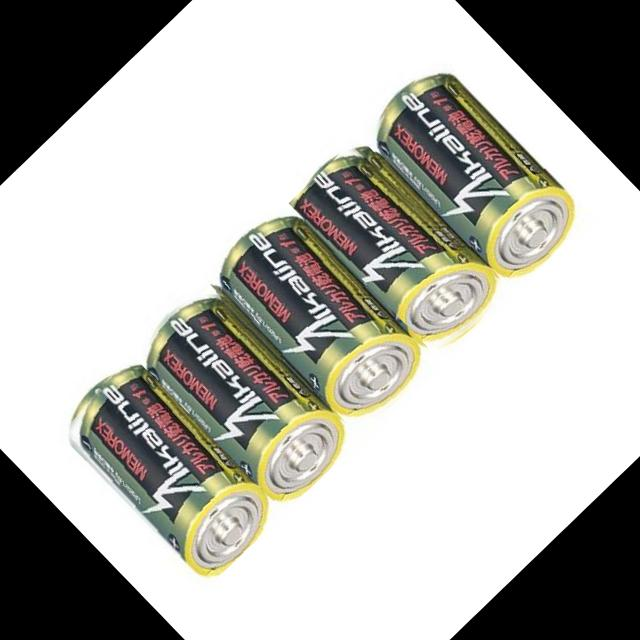Hazard: (195, 194, 444, 446), (123, 274, 361, 515), (356, 56, 592, 294), (48, 352, 283, 590), (281, 134, 514, 368)
